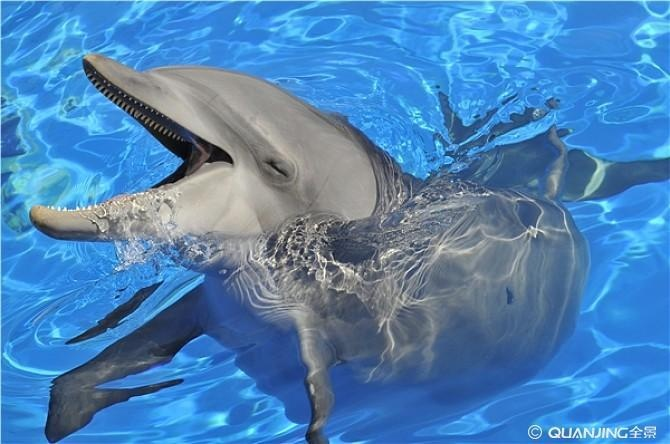fish: (28, 51, 656, 436)
